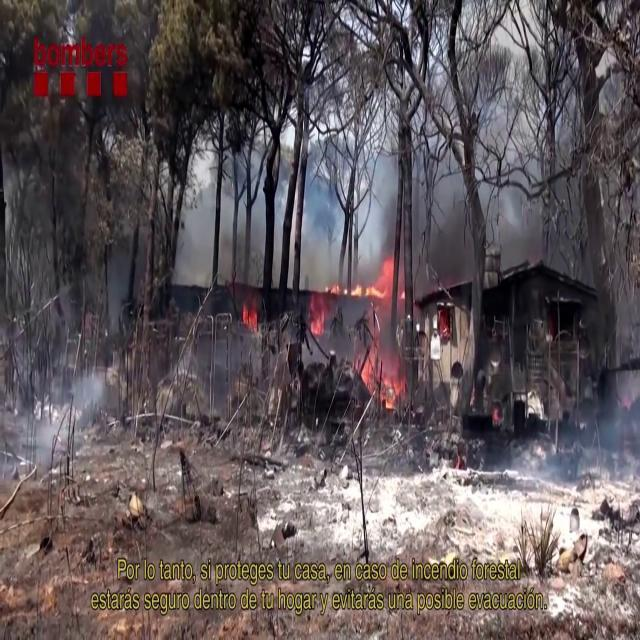Fire: (358, 306, 404, 409), (353, 254, 397, 297), (240, 290, 260, 336)
